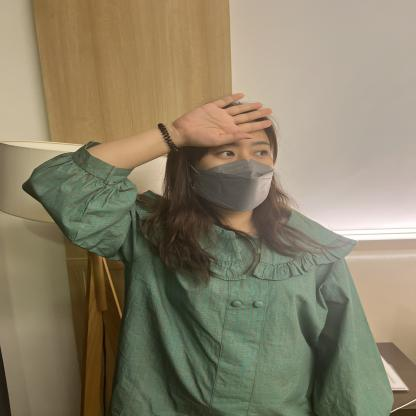Sick: (131, 38, 309, 167)
